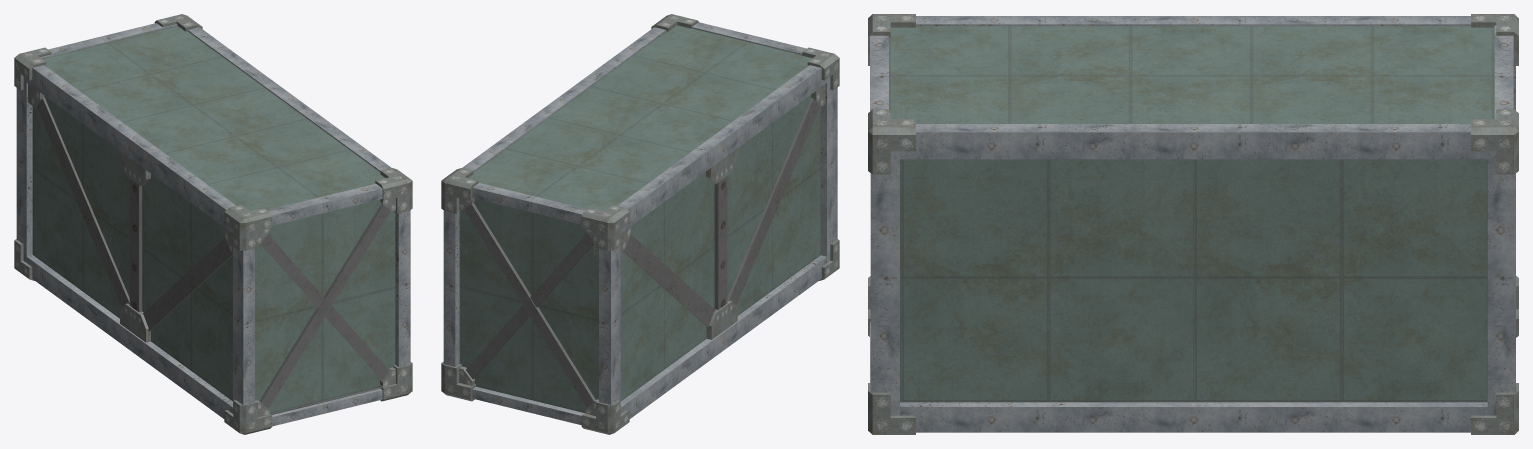
File: Ob_CrateWide_RC.fbx
3 views of the same model, side by side, from view 1: azimuth 30°, elevation 25°; view 2: azimuth 150°, elevation 25°; view 3: azimuth 270°, elevation 25° (orthographic). The views are drawn at different scales.
Parts seen in each view (by area): view 1: Ob_CrateWide_RC; view 2: Ob_CrateWide_RC; view 3: Ob_CrateWide_RC.
Part boxes in pixels (box(x1,y1,x2,y2)): Ob_CrateWide_RC: box(14, 14, 412, 434); Ob_CrateWide_RC: box(441, 14, 839, 434); Ob_CrateWide_RC: box(868, 14, 1518, 434).
Bounding box in the file's own units: 444 × 530 × 1016.
